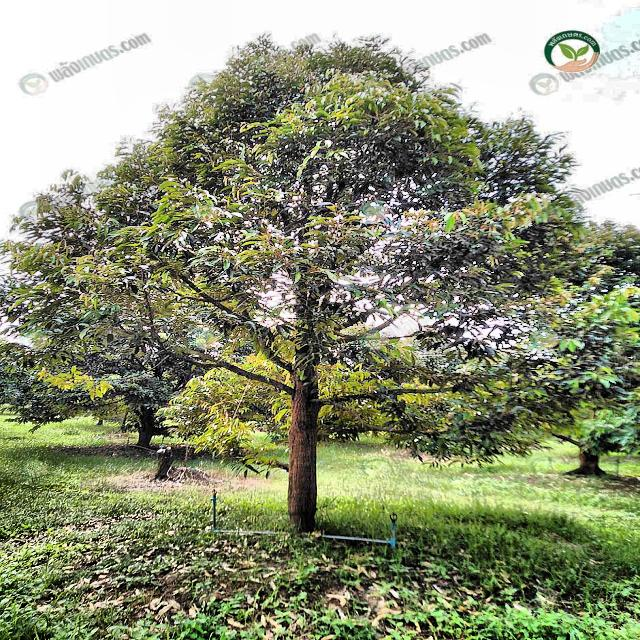arvore: (263, 190, 338, 549), (106, 350, 160, 448), (569, 380, 618, 485)
